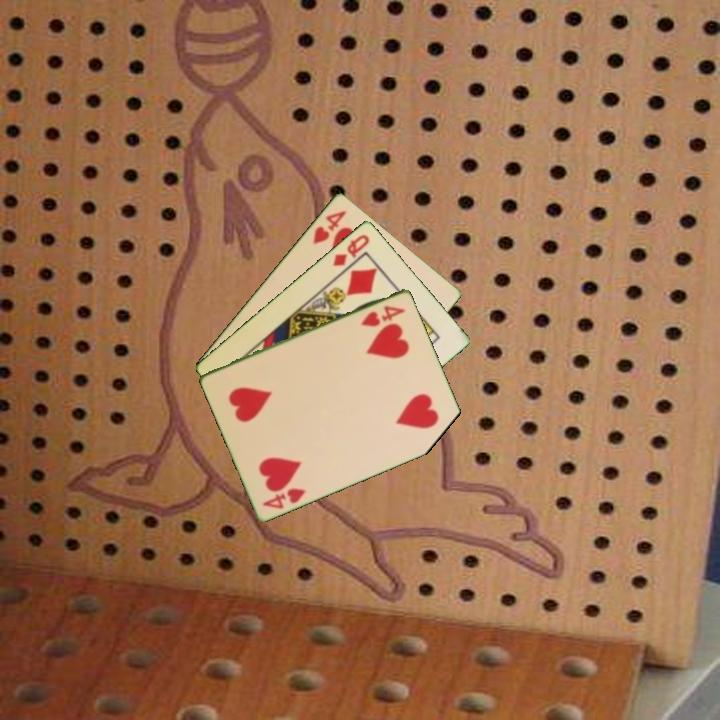4h: (309, 206, 349, 247), (357, 302, 408, 329), (259, 484, 309, 511)
Qd: (329, 230, 372, 269)
